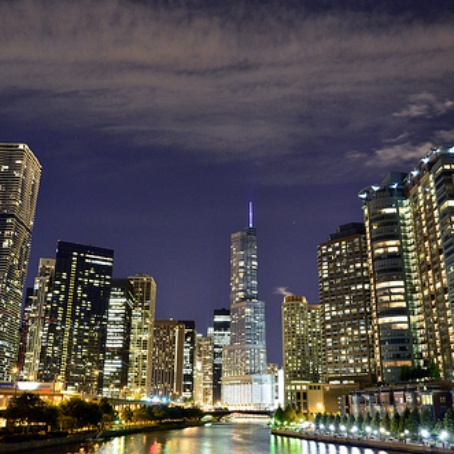building: (398, 151, 454, 376), (32, 242, 112, 394), (364, 189, 423, 380), (220, 215, 277, 408), (1, 145, 44, 383), (315, 226, 375, 390), (101, 269, 158, 397), (280, 292, 322, 389), (152, 319, 190, 404)
river: (57, 416, 375, 454)
sky: (51, 1, 379, 240)
